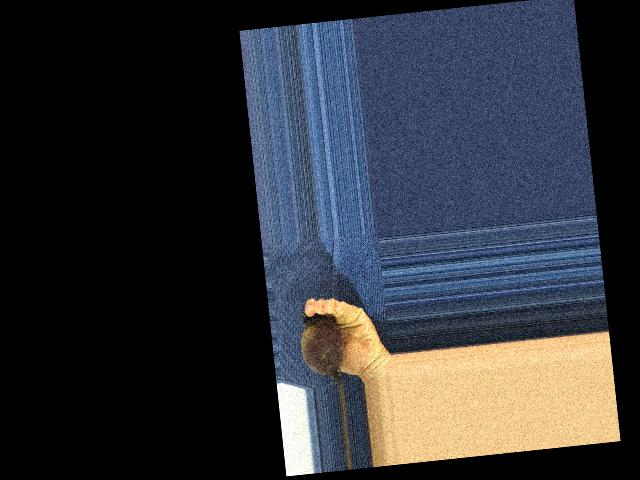beet: (297, 306, 348, 388)
